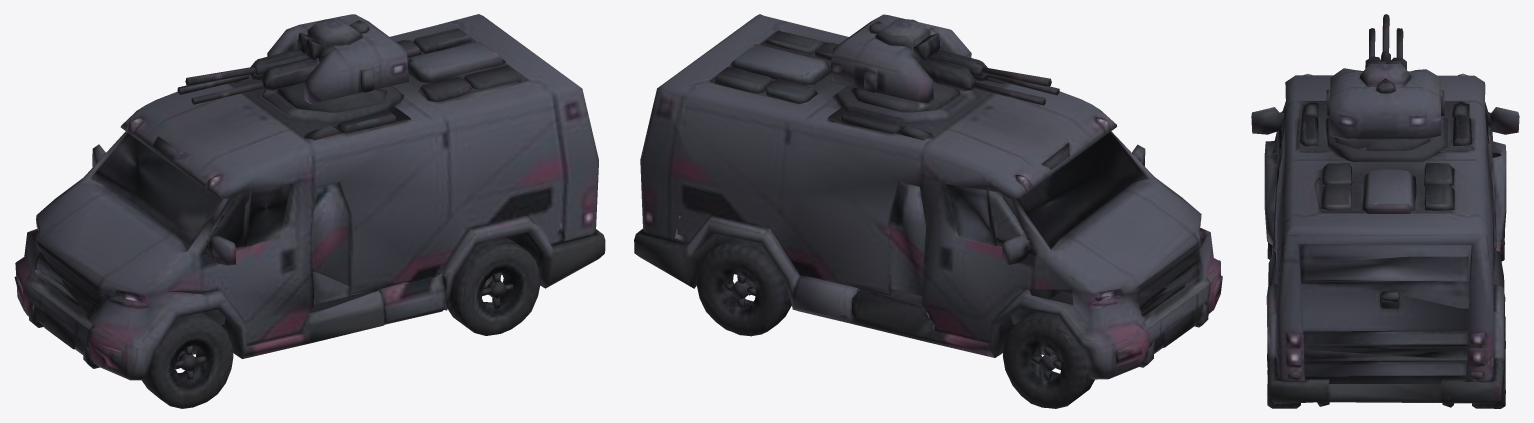
Rendered from gunner.glb.
The picture shows the model from 3 angles, left to right: view 1: azimuth 30°, elevation 25°; view 2: azimuth 150°, elevation 25°; view 3: azimuth 270°, elevation 25°; orthographic projection. The views are drawn at different scales.
Size of the model in its own units: 1 by 0.5795 by 0.4866.
Materials: 1 (1 with a texture image).
